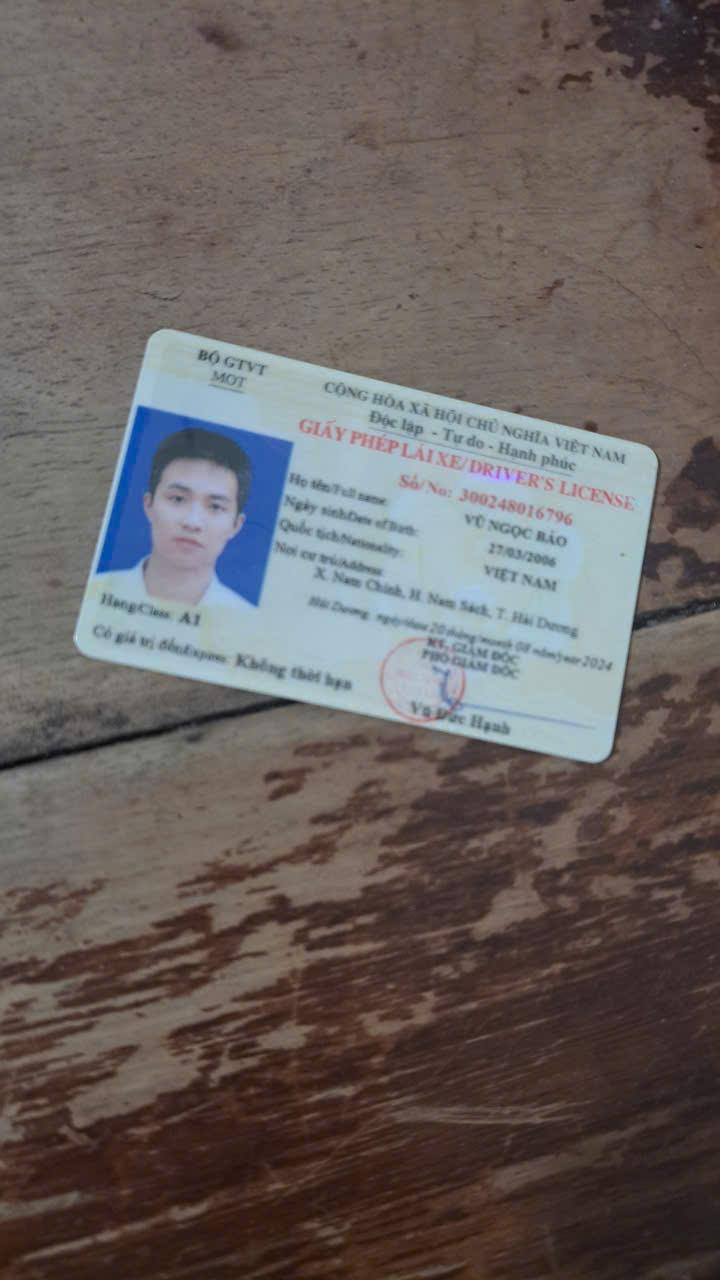gplx: (68, 325, 662, 782)
